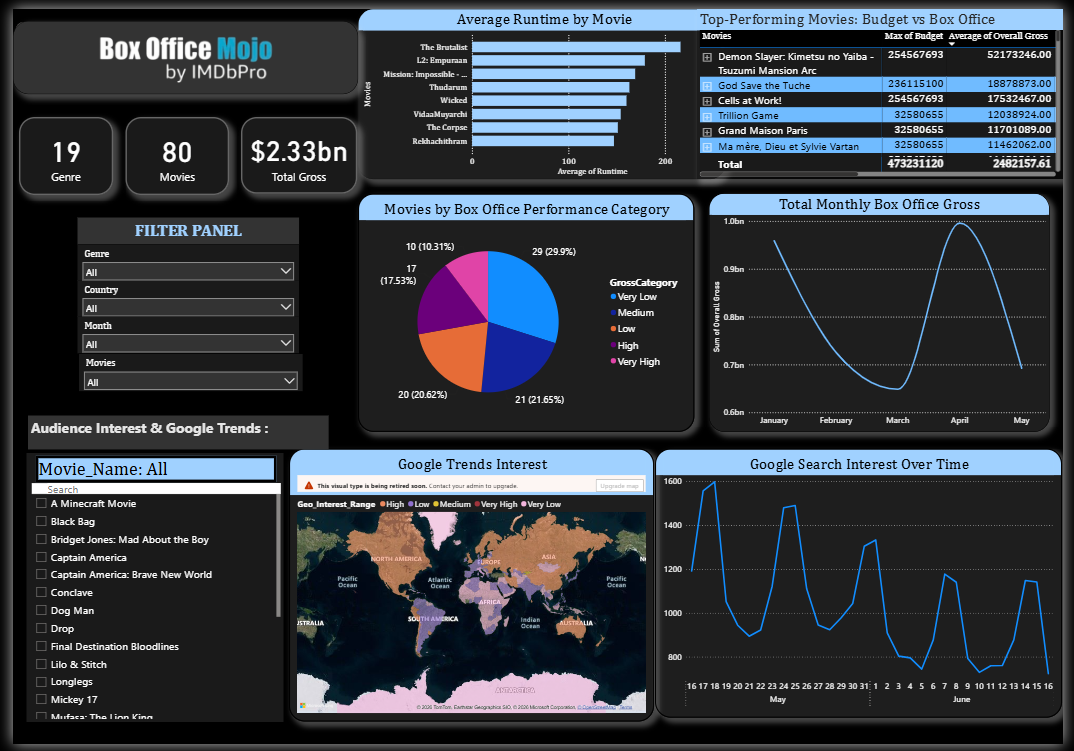

The page's visual inventory and layout, read from the dashboard file:
{"tool":"powerbi","page":{"name":"THEATER_DASHBOARD","canvas":[2000,1400],"ordinal":2},"visuals":[{"type":"barChart","title":"Average Runtime by Movie","fields":{"Category":["CLEANED_READY_THEATER_DATASET (2).#1 Release"],"Y":["Avg(CLEANED_READY_THEATER_DATASET (2).Runtime)"]},"box":[657.6,0,700.2,324.1],"z":0},{"type":"actionButton","box":[0,19.7,171.1,39.4],"z":1000},{"type":"lineChart","title":"Total Monthly Box Office Gross","fields":{"Category":["MonthTable.Month"],"Y":["Sum(CLEANED_READY_THEATER_DATASET (2).Overall Gross)"]},"box":[1327,351.4,648.6,454.1],"z":3000},{"type":"pivotTable","title":"Top-Performing Movies: Budget vs Box Office","fields":{"Rows":["CLEANED_READY_THEATER_DATASET (2).#1 Release","CLEANED_READY_THEATER_DATASET (2).IMDb_ID"],"Values":["Max(CLEANED_READY_THEATER_DATASET (2).Budget)","Avg(CLEANED_READY_THEATER_DATASET (2).Overall Gross)","Sum(CLEANED_READY_THEATER_DATASET (2).Releases)","Count(CLEANED_READY_THEATER_DATASET (2).Country)","Max(CLEANED_READY_THEATER_DATASET (2).Runtime)"]},"box":[1302.7,0,697.3,324.3],"z":4000},{"type":"textbox","box":[0,21.6,657.6,139.6],"z":5000},{"type":"image","box":[13.5,40.5,632.4,105.4],"z":6000},{"type":"slicer","fields":{"Values":["CLEANED_READY_THEATER_DATASET (2).Country"]},"box":[123.1,516.9,422,68.6],"z":6000,"group":"g1"},{"type":"slicer","fields":{"Values":["CLEANED_READY_THEATER_DATASET (2).#1 Release"]},"box":[125.6,656.4,425.9,70.4],"z":6000,"group":"g2"},{"type":"card","fields":{"Values":["Sum(theater for kpi (2).Tot_Gross)"]},"box":[435.1,205.4,221.6,145.9],"z":7000},{"type":"slicer","fields":{"Values":["CLEANED_READY_THEATER_DATASET (2).Genre"]},"box":[123.1,448.4,422,68.6],"z":7000,"group":"g1"},{"type":"card","fields":{"Values":["Count(CLEANED_READY_THEATER_DATASET (2).#1 Release)"]},"box":[215.4,205.1,197.4,148.7],"z":8000},{"type":"card","fields":{"Values":["Count(CLEANED_READY_THEATER_DATASET (2).Genre)"]},"box":[12.8,205.1,179.5,148.7],"z":9000},{"type":"filledMap","title":"Google Trends Interest","fields":{"Category":["Sheet1 (3).Country"],"Series":["Trends_Geo.Geo_Interest_Range"]},"box":[527,837.8,695,520],"z":10000},{"type":"textbox","box":[123.1,397.4,422,51],"z":11000,"group":"g1"},{"type":"lineChart","title":"Google Search Interest Over Time","fields":{"Category":["Sheet1.Dates.Variation.Date Hierarchy.Month","Sheet1.Dates.Variation.Date Hierarchy.Day"],"Y":["Sum(Sheet1.Interest)"]},"box":[1221.6,837.8,775,512.5],"z":11000},{"type":"slicer","fields":{"Values":["CLEANED_READY_THEATER_DATASET (2).Month"]},"box":[123.1,585.5,422,70.3],"z":11500,"group":"g1"},{"type":"pieChart","title":"Movies by Box Office Performance Category","fields":{"Category":["CLEANED_READY_THEATER_DATASET (2).GrossCategory"],"Y":["Count(CLEANED_READY_THEATER_DATASET (2).Runtime)"]},"box":[656.8,351.4,640.5,454.1],"z":12000},{"type":"group","id":"g1","title":"Group 1","box":[123.1,397.4,423.1,259],"z":13000},{"type":"textbox","box":[28,774,573,64.9],"z":14000},{"type":"slicer","fields":{"Values":["Movie_Dim.Movie_Name"]},"box":[27,845.9,489.2,510.8],"z":15000},{"type":"group","id":"g2","title":"Group 1","box":[125.6,656.4,423.1,69.2],"z":16000}]}

Visuals, with their boxes in screenshot pixels (x1, y1, x2, y2), scaled from the page's 2000x1400 canvas onto the 1074x751 screenshot:
"Average Runtime by Movie" barChart: Rect(353, 0, 729, 174)
actionButton: Rect(0, 11, 92, 32)
"Total Monthly Box Office Gross" lineChart: Rect(713, 189, 1061, 432)
"Top-Performing Movies: Budget vs Box Office" pivotTable: Rect(700, 0, 1073, 174)
textbox: Rect(0, 12, 353, 86)
image: Rect(7, 22, 347, 78)
slicer - CLEANED_READY_THEATER_DATASET (2).Country: Rect(66, 277, 293, 314)
slicer - CLEANED_READY_THEATER_DATASET (2).#1 Release: Rect(67, 352, 296, 390)
card - Sum(theater for kpi (2).Tot_Gross): Rect(234, 110, 353, 188)
slicer - CLEANED_READY_THEATER_DATASET (2).Genre: Rect(66, 241, 293, 277)
card - Count(CLEANED_READY_THEATER_DATASET (2).#1 Release): Rect(116, 110, 222, 190)
card - Count(CLEANED_READY_THEATER_DATASET (2).Genre): Rect(7, 110, 103, 190)
"Google Trends Interest" filledMap: Rect(283, 449, 656, 728)
textbox: Rect(66, 213, 293, 241)
"Google Search Interest Over Time" lineChart: Rect(656, 449, 1072, 724)
slicer - CLEANED_READY_THEATER_DATASET (2).Month: Rect(66, 314, 293, 352)
"Movies by Box Office Performance Category" pieChart: Rect(353, 189, 697, 432)
"Group 1" group: Rect(66, 213, 293, 352)
textbox: Rect(15, 415, 323, 450)
slicer - Movie_Dim.Movie_Name: Rect(14, 454, 277, 728)
"Group 1" group: Rect(67, 352, 295, 389)
